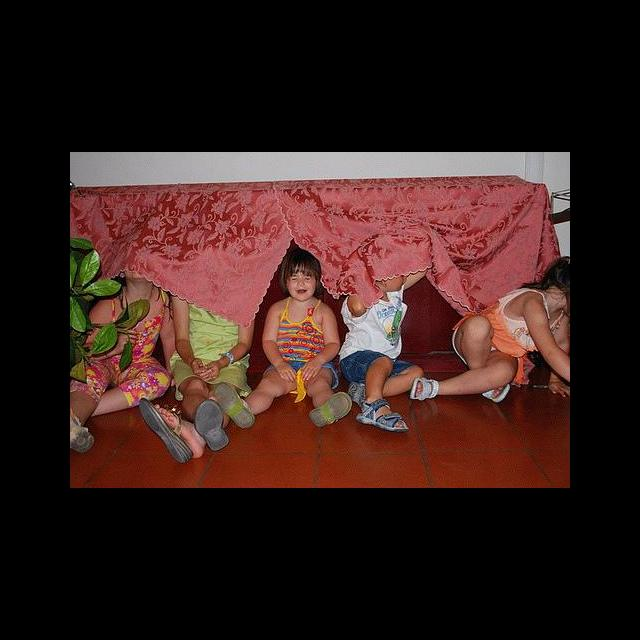NO-Hardhat: (283, 252, 317, 275), (548, 254, 570, 289)
NO-Mask: (289, 286, 313, 301), (126, 268, 147, 282), (388, 278, 405, 293)
NO-Safety Vest: (487, 288, 563, 357), (106, 301, 164, 367), (347, 292, 402, 357), (183, 300, 240, 362), (276, 300, 324, 359)
Person: (216, 250, 351, 429), (411, 254, 570, 404), (140, 288, 249, 460), (71, 264, 175, 424), (341, 265, 423, 433)
